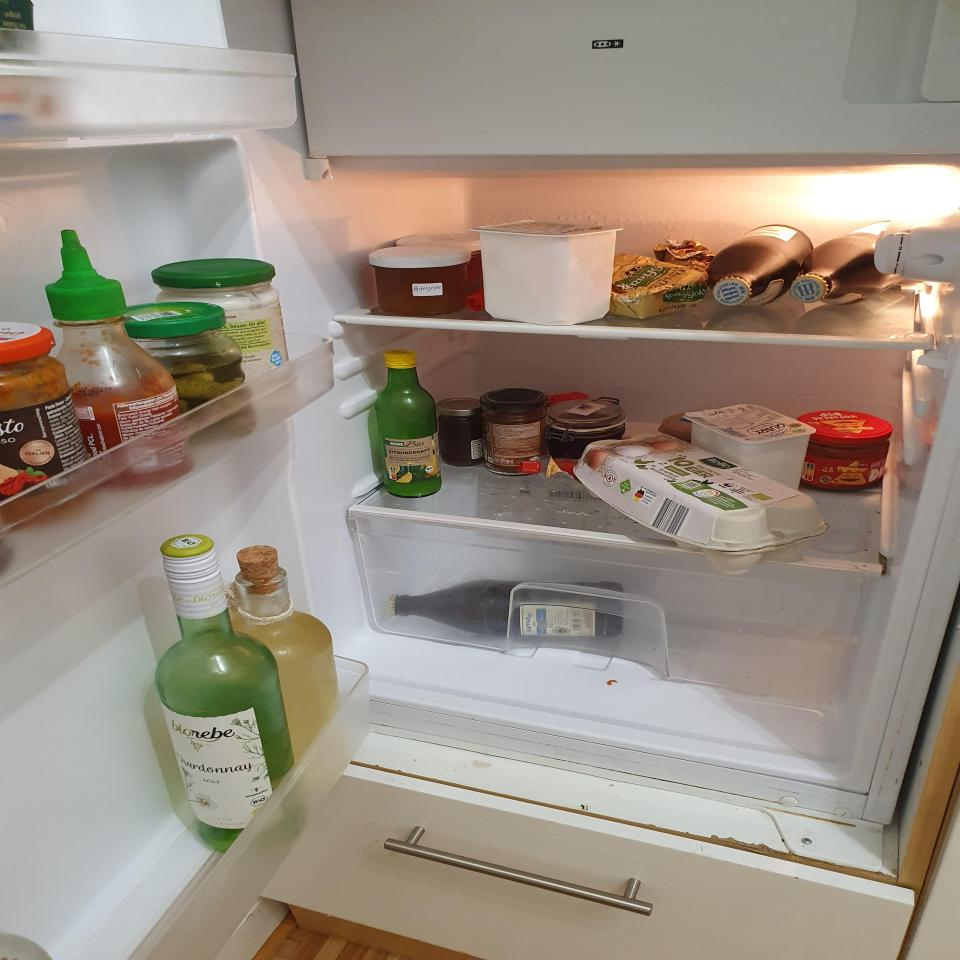Huevos: (573, 436, 829, 574)
Mantequilla: (592, 256, 706, 319)
